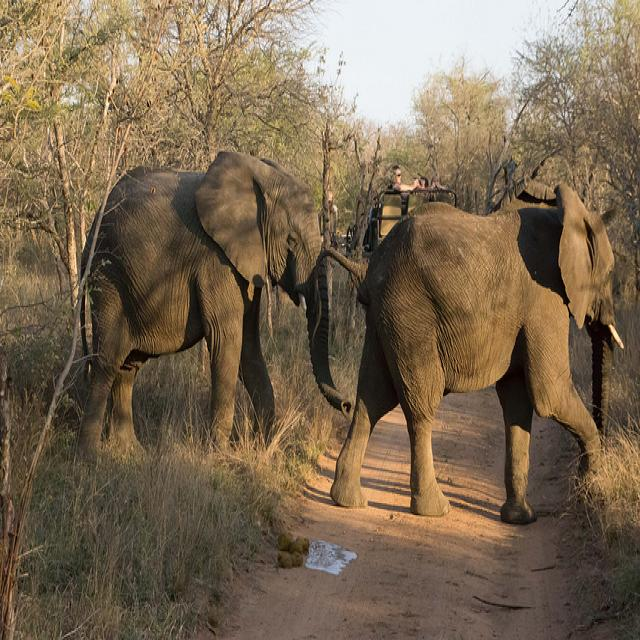Vehicle: (361, 188, 458, 258)
